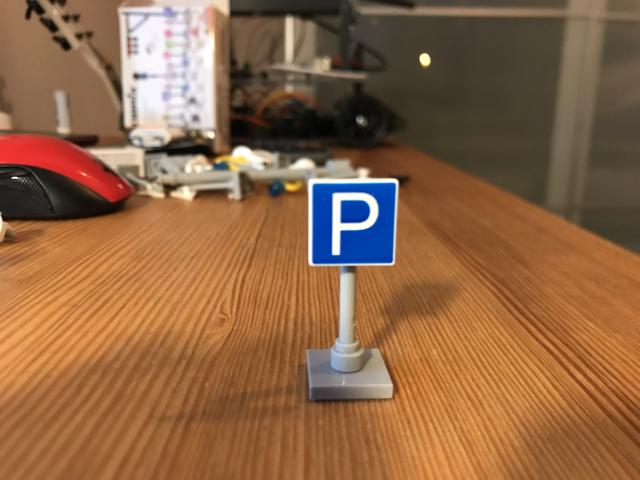parken: (307, 177, 401, 268)
